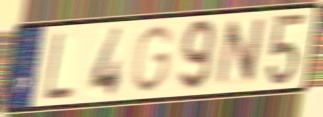4: (86, 25, 123, 99)
5: (265, 12, 308, 88)
9: (176, 18, 217, 94)
G: (128, 23, 176, 95)
L: (42, 30, 74, 102)
N: (212, 15, 268, 90)
